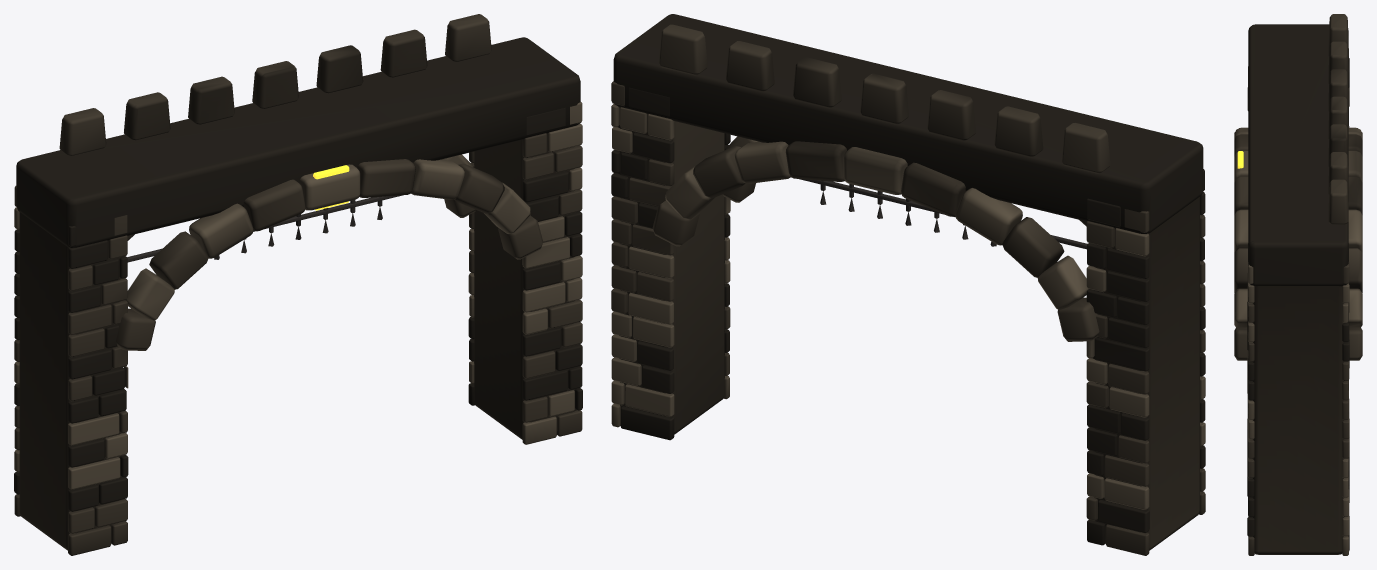
Rendered from PortaoArco.fbx.
3 views of the same model, side by side, from view 1: azimuth 30°, elevation 25°; view 2: azimuth 150°, elevation 25°; view 3: azimuth 270°, elevation 25° (orthographic). The views are drawn at different scales.
Parts seen in each view (by area): view 1: PortaoArco; view 2: PortaoArco; view 3: PortaoArco.
Part boxes in pixels (bbox=[...]): PortaoArco: bbox=[14, 14, 582, 555]; PortaoArco: bbox=[611, 14, 1205, 555]; PortaoArco: bbox=[1234, 14, 1362, 555].
Size of the model in its own units: 10.4 by 7.53 by 2.55.
